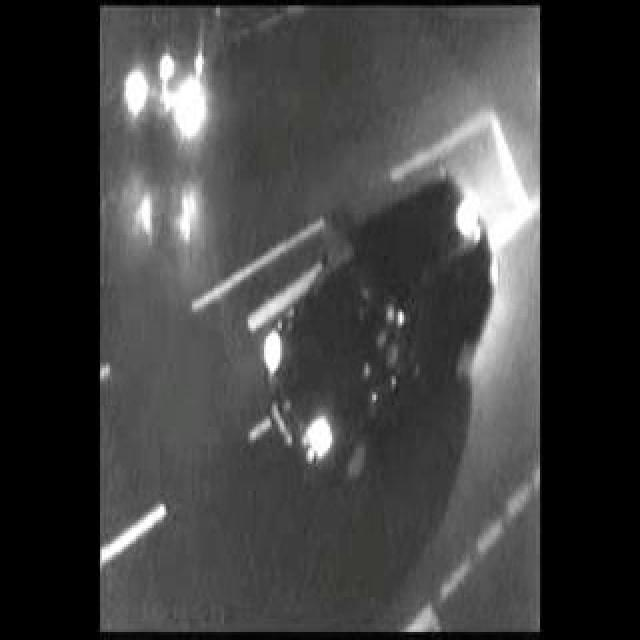road accidents: (103, 29, 476, 546)
